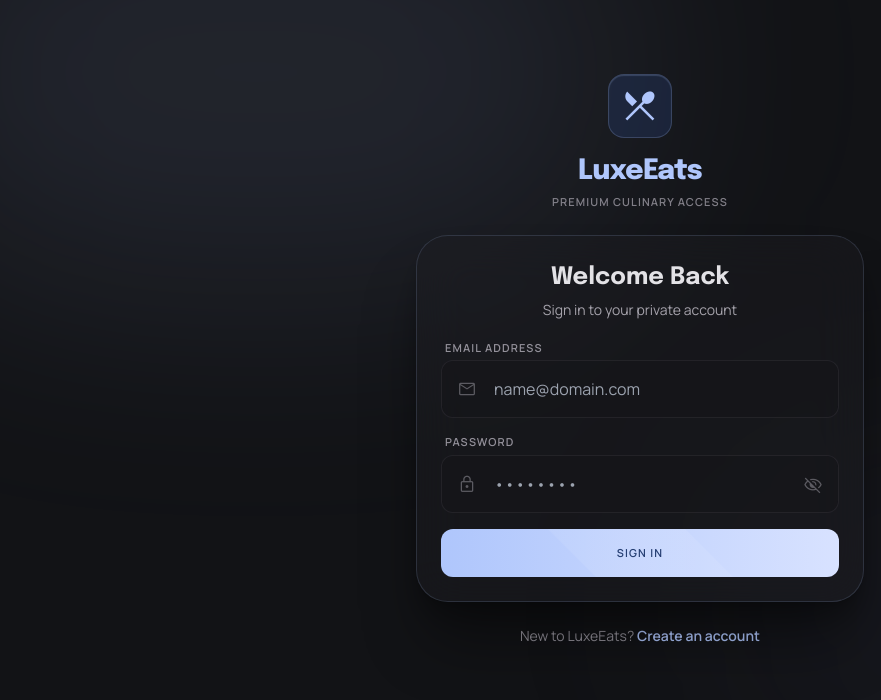
Test: LoginPage — Error States › PADLOCK 1 — shows lockout message on HTTP 429 (rate limit)
Type "locked@example.com" into the field labelled "EMAIL ADDRESS" at (640, 389), box x1=441 y1=360 x2=839 y2=418
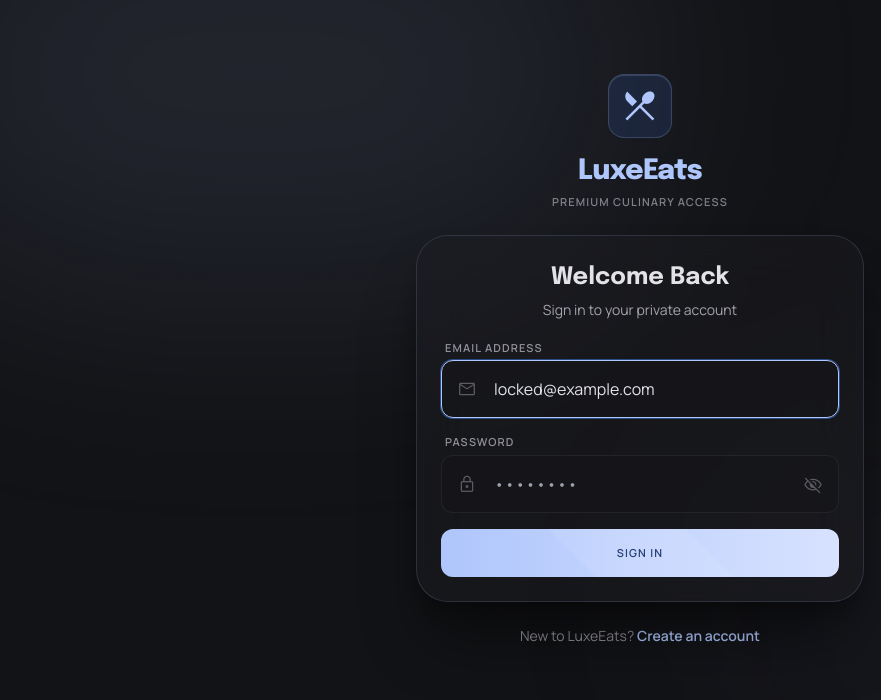
Type "somepass" into the password field labelled "PASSWORD" at (640, 484), box x1=441 y1=454 x2=839 y2=512
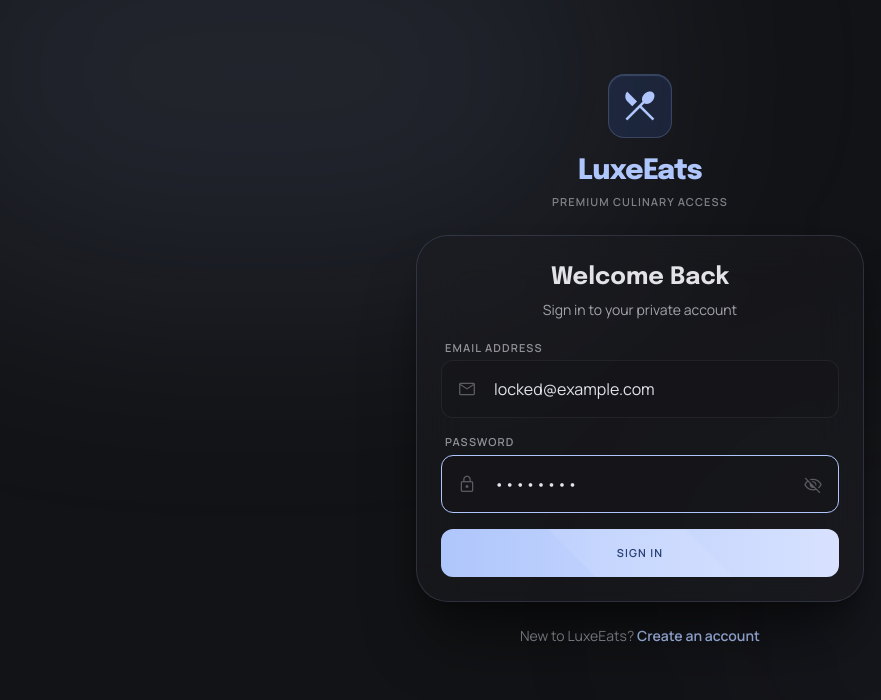
Click the button "SIGN IN" at (640, 553), box x1=441 y1=528 x2=839 y2=577
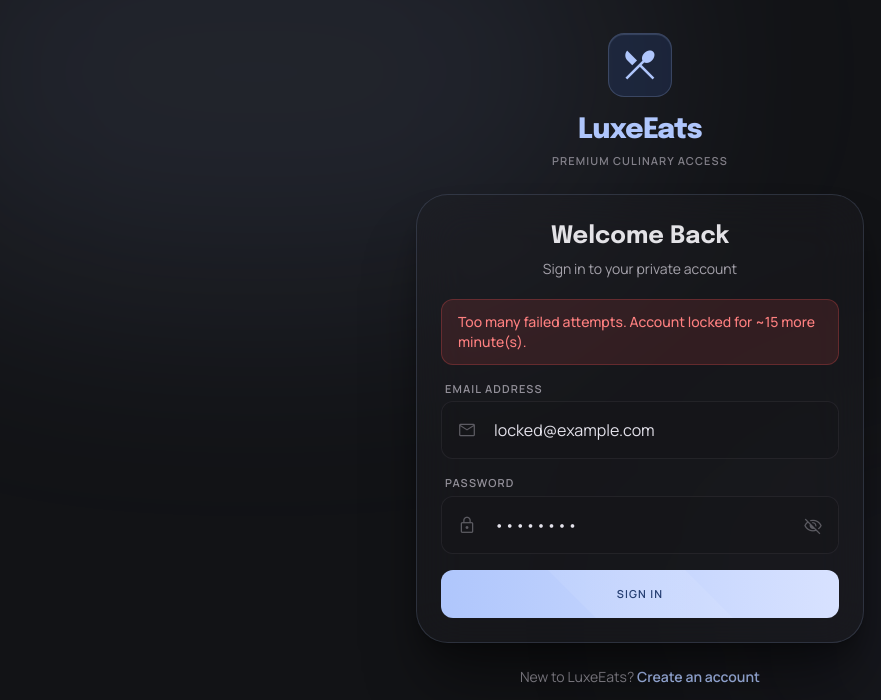
Expected: the message reads "Too many failed attempts. Account locked for ~15 more minute(s).", x1=458 y1=312 x2=815 y2=350
